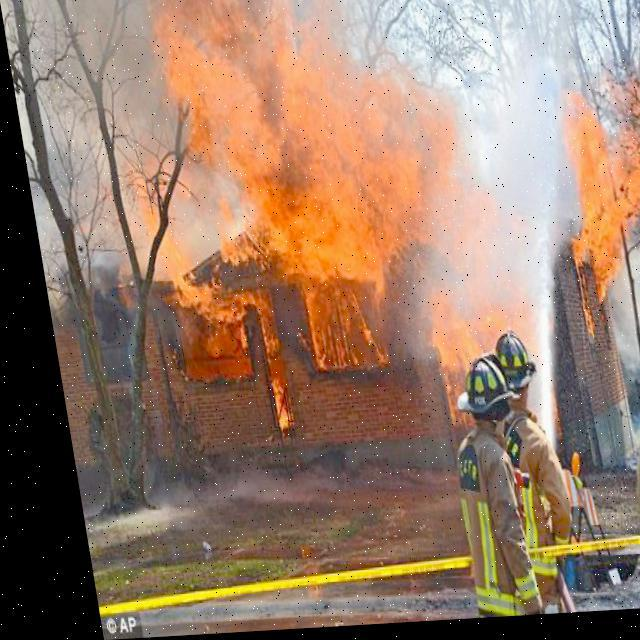Fire: (140, 0, 532, 406), (533, 101, 639, 317)
